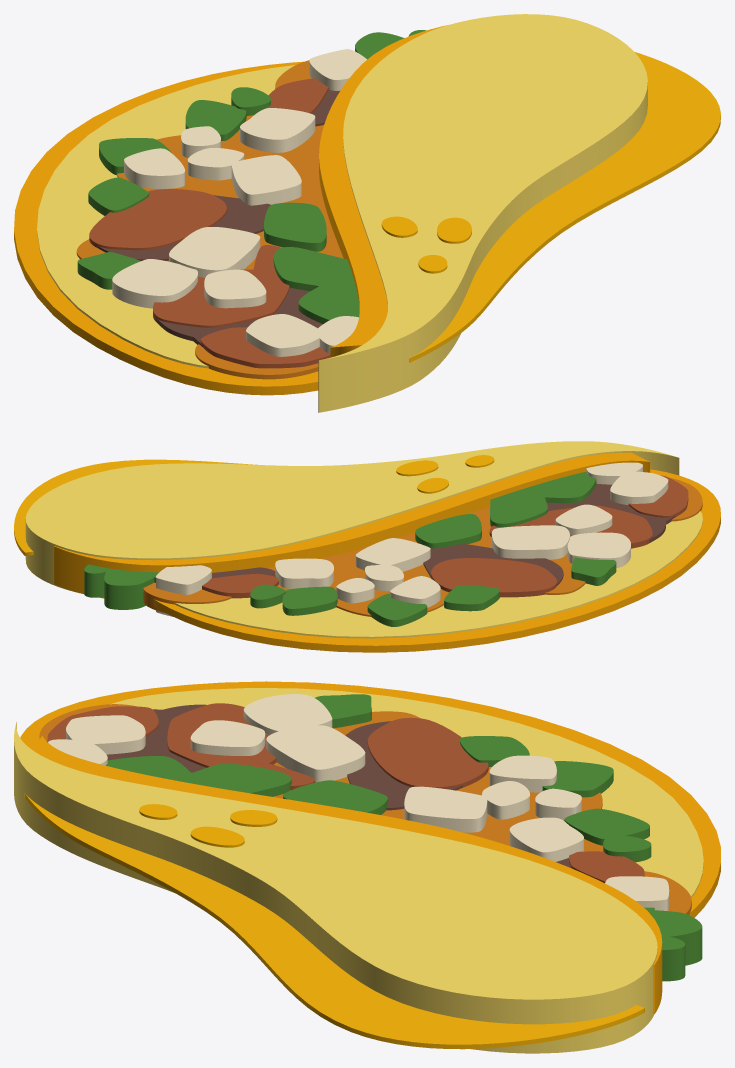
The model's file is emoji_u1f32e.glb.
3 views of the same model, one above another, from view 1: azimuth 30°, elevation 25°; view 2: azimuth 150°, elevation 25°; view 3: azimuth 270°, elevation 25° (orthographic). The views are drawn at different scales.
Visible parts, largest first — view 1: emoji_u1f32e; view 2: emoji_u1f32e; view 3: emoji_u1f32e.
Boxes of the visible parts, x1,y1,x2,y2 form: emoji_u1f32e: [14, 14, 720, 412]; emoji_u1f32e: [14, 441, 720, 652]; emoji_u1f32e: [14, 681, 720, 1053].
Bounding box in the file's own units: 0.0345 × 0.0026 × 0.0285.
